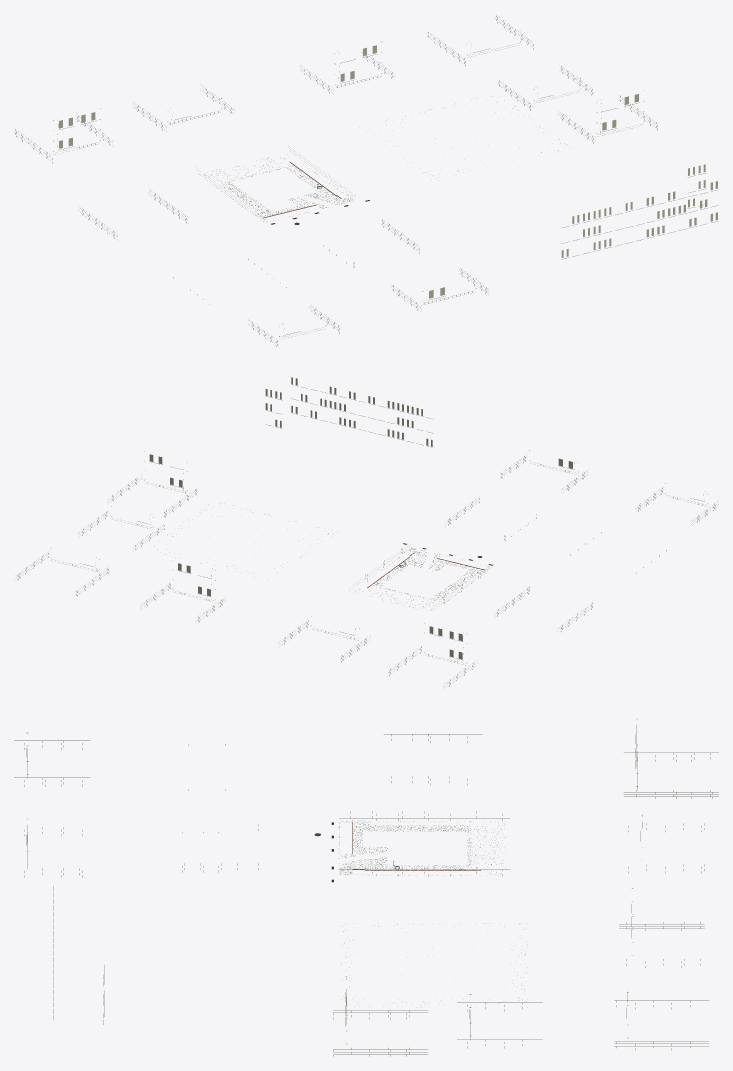
The model's file is surface-v11-lite.glb.
The picture shows the model from 3 angles, top to bottom: view 1: azimuth 30°, elevation 25°; view 2: azimuth 150°, elevation 25°; view 3: azimuth 270°, elevation 25°; orthographic projection. The views are drawn at different scales.
Visible parts, largest first — view 1: neighborhood_detail; view 2: neighborhood_detail, surface_detail; view 3: neighborhood_detail, surface_detail.
Boxes of the visible parts, x1,y1,x2,y2 form: neighborhood_detail: [15, 15, 718, 346]; neighborhood_detail: [17, 377, 718, 686]; surface_detail: [365, 543, 492, 606]; neighborhood_detail: [14, 719, 718, 1056]; surface_detail: [314, 811, 509, 882].
Bounding box in the file's own units: 77.86 × 6.41 × 74.
16 materials, 3 textured.
